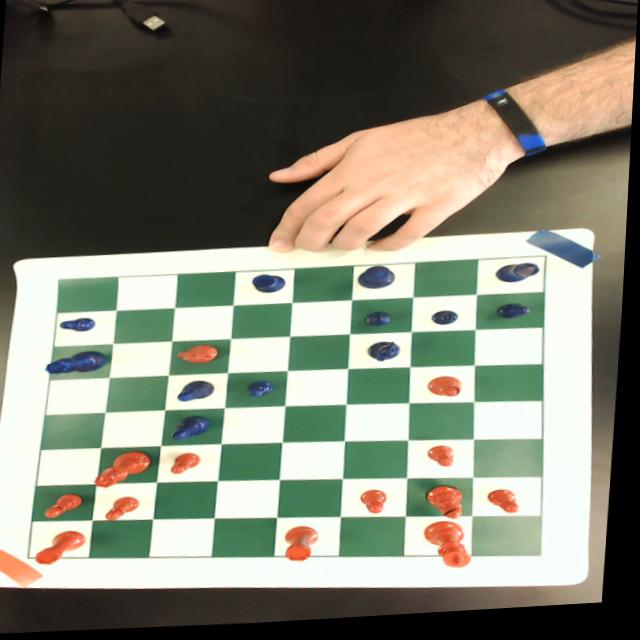B: (176, 416, 217, 442), (181, 381, 220, 404)
K: (359, 268, 401, 295)
N: (367, 343, 405, 368)
P: (499, 306, 535, 325), (62, 315, 98, 333), (249, 382, 278, 400), (433, 313, 462, 331), (367, 315, 395, 331)
Q: (48, 350, 111, 376)
R: (497, 266, 542, 289), (253, 274, 290, 296)
b: (430, 487, 474, 525), (431, 380, 468, 403)
k: (426, 525, 481, 575)
n: (180, 343, 223, 366)
p: (47, 491, 90, 519), (490, 492, 527, 520), (110, 495, 145, 522), (429, 449, 461, 473), (364, 493, 393, 518), (175, 453, 206, 475)
q: (99, 450, 157, 489)
r: (40, 529, 92, 567), (288, 527, 324, 565)
